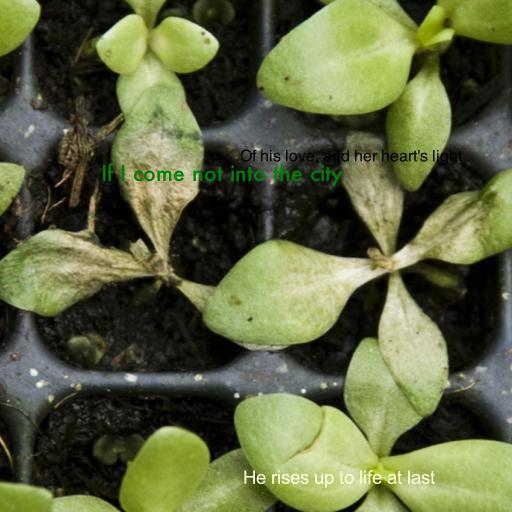Arial: (243, 470, 435, 488)
Big Caslon: (240, 149, 462, 165)
Futura: (101, 163, 343, 187)
